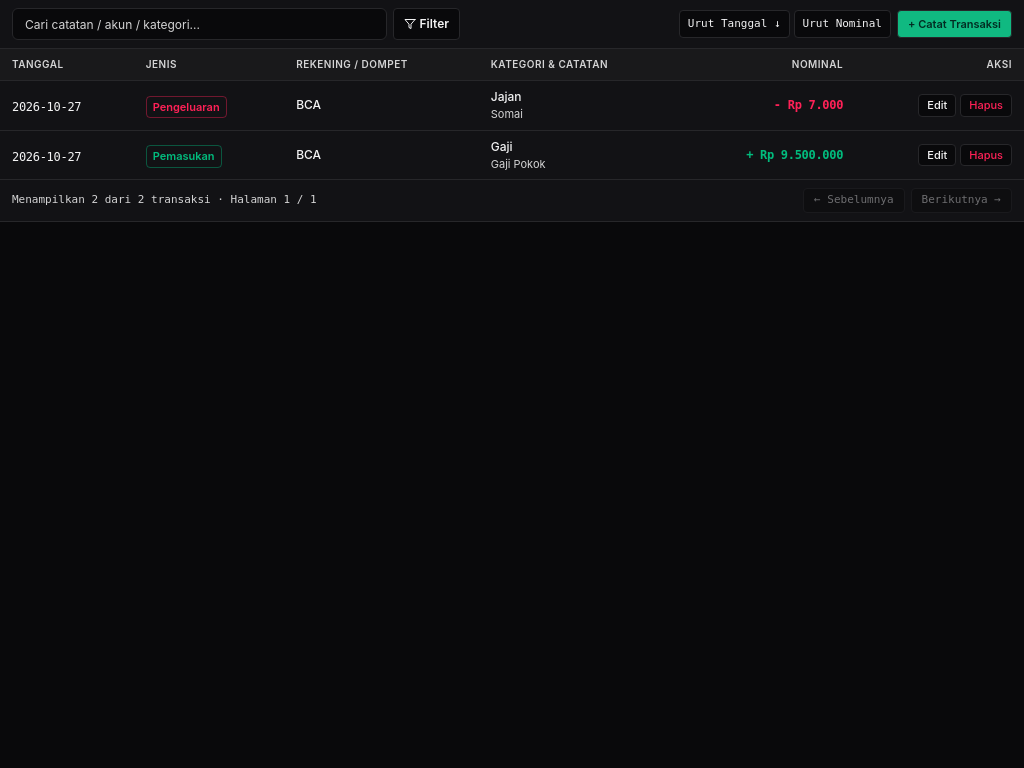
TransactionTable (Mobile Friendly & Responsive) › opens filter drawer/modal when Filter button is clicked and closes on ESC or Terapkan
Expected: the dialog "Filter Transaksi" is not shown
// Click Filter button
Click the button with test id "filter-open-button" at (426, 24), box [392, 8, 460, 40]
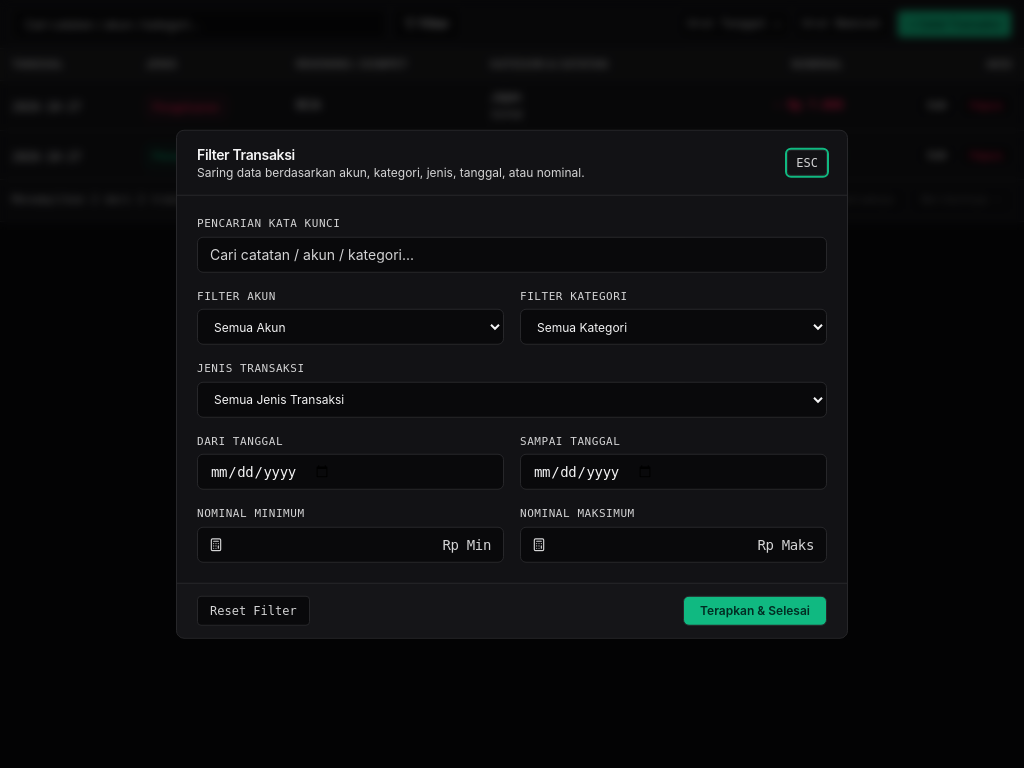
Expected: the dialog is shown, [176, 130, 848, 638]
Expected: the heading "Filter Transaksi" is shown, [197, 146, 295, 163]
Expected: the text "Pencarian Kata Kunci" is shown, [197, 217, 340, 230]
// Click Terapkan & Selesai to close
Click the button "Terapkan & Selesai" at (755, 610), box [683, 595, 827, 625]
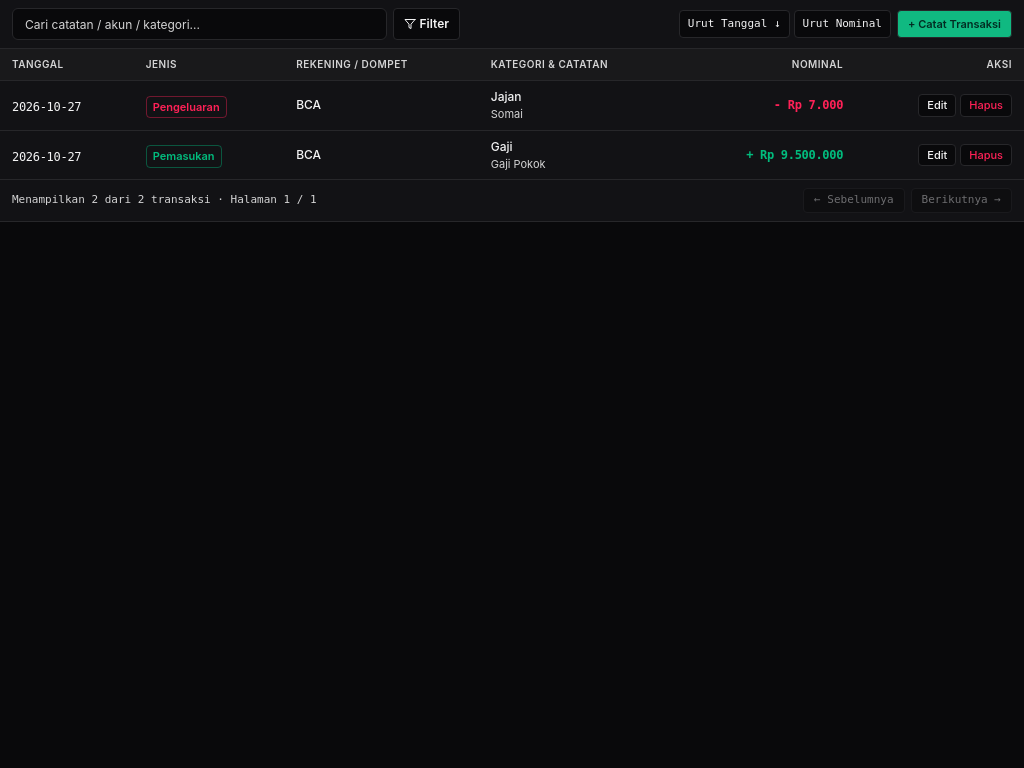
Expected: the dialog is gone
